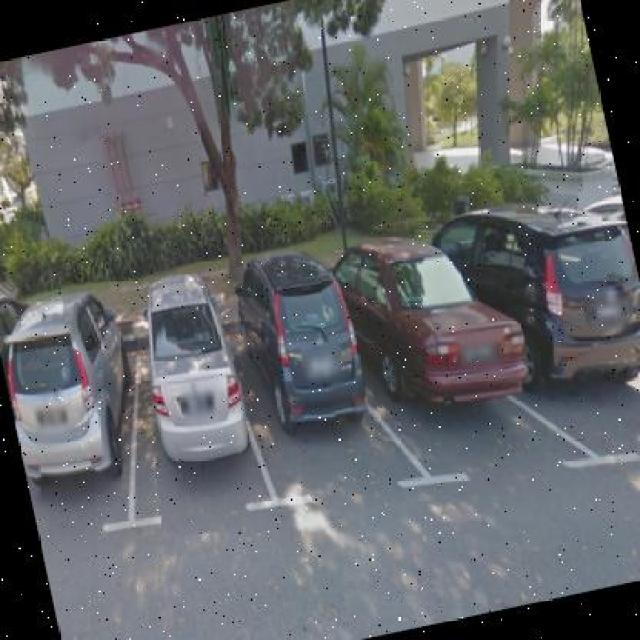Car: (323, 177, 549, 446), (425, 153, 640, 404), (230, 218, 398, 467), (1, 267, 147, 484), (122, 254, 258, 474)
